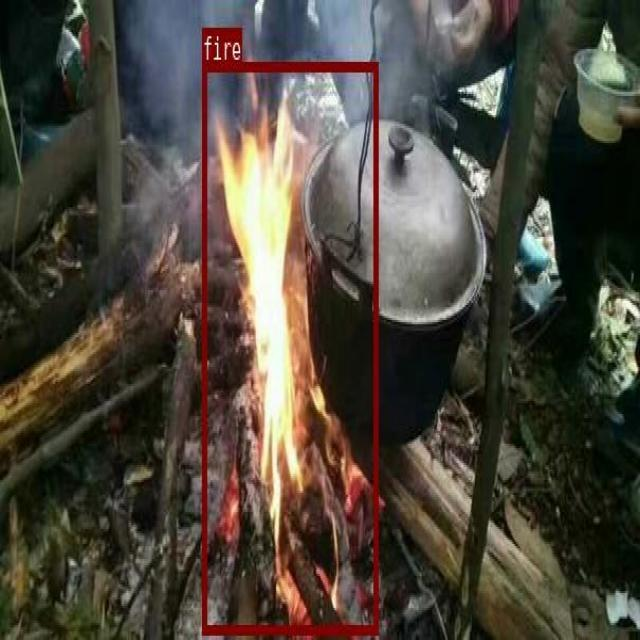fire: (201, 61, 377, 633)
